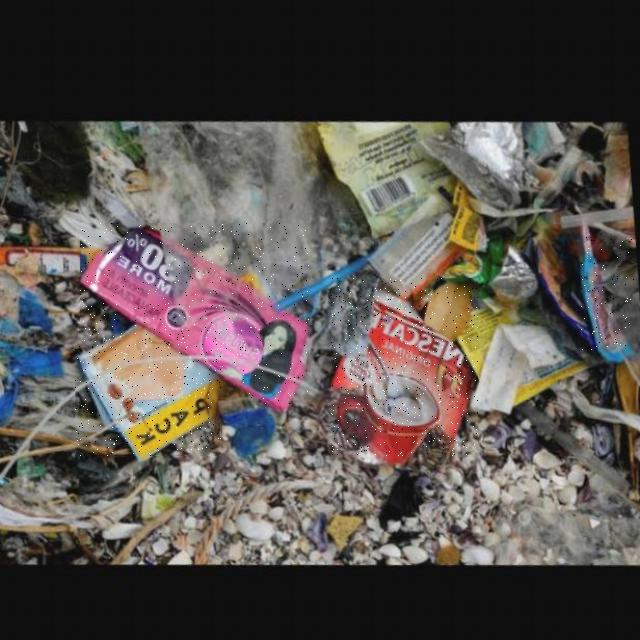wrapper: (81, 224, 309, 404), (331, 278, 478, 456), (76, 322, 221, 456), (581, 237, 634, 350)
